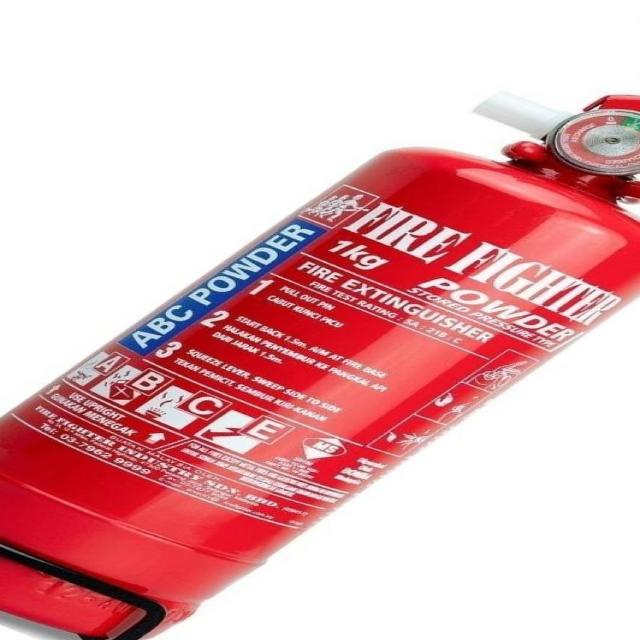fire_extinguisher: (0, 82, 635, 639)
